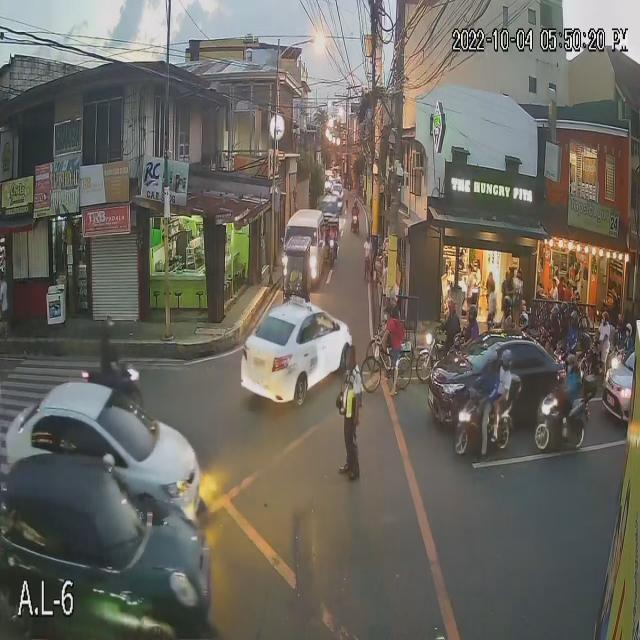helmet: (562, 353, 584, 381), (483, 349, 497, 380), (500, 293, 514, 323), (100, 316, 116, 342), (463, 308, 480, 331), (514, 309, 530, 333), (502, 348, 516, 375), (446, 300, 461, 322), (568, 308, 582, 330), (598, 308, 612, 329), (621, 321, 634, 338), (550, 307, 558, 328), (560, 301, 571, 314)
motorcycle: (530, 383, 600, 455), (457, 385, 513, 467), (78, 357, 141, 419), (416, 329, 456, 387), (610, 343, 629, 375), (349, 212, 360, 235)
rider: (473, 347, 502, 421), (556, 349, 589, 409), (94, 313, 120, 387), (498, 347, 517, 415), (492, 291, 515, 339), (440, 293, 461, 342), (546, 302, 563, 347), (618, 314, 636, 355), (464, 305, 482, 343), (599, 305, 612, 352), (568, 305, 581, 352), (517, 305, 530, 344), (560, 300, 570, 339), (350, 198, 359, 219)
